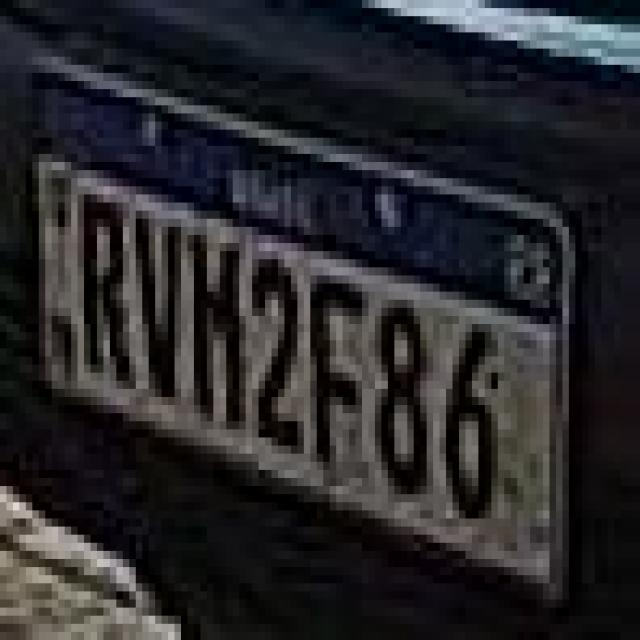6: (437, 293, 505, 522)
8: (373, 295, 439, 512)
F: (304, 252, 369, 482)
H: (182, 228, 249, 436)
R: (77, 182, 132, 394)
V: (132, 207, 190, 414)
